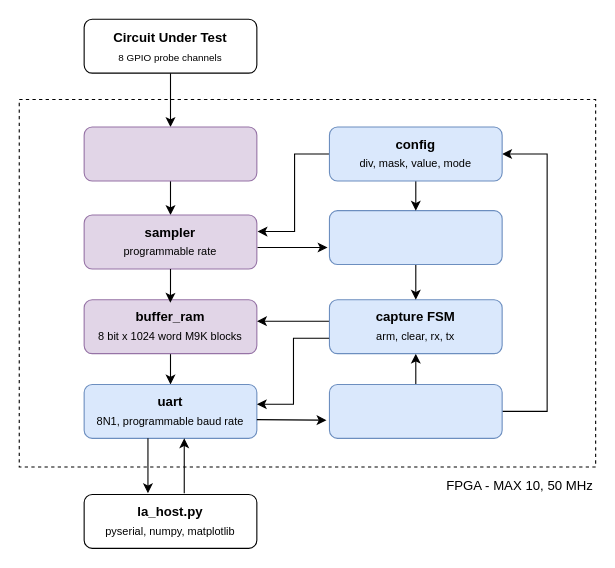
This 615x568 diagram has some shape labels left out. Each missing label, with the centre of its shape:
cmd decoder 5 opcodes from host: pixel 415 410
sync_in 2 FF per channel: pixel 170 153
trigger mask, value, mode: pixel 415 237
